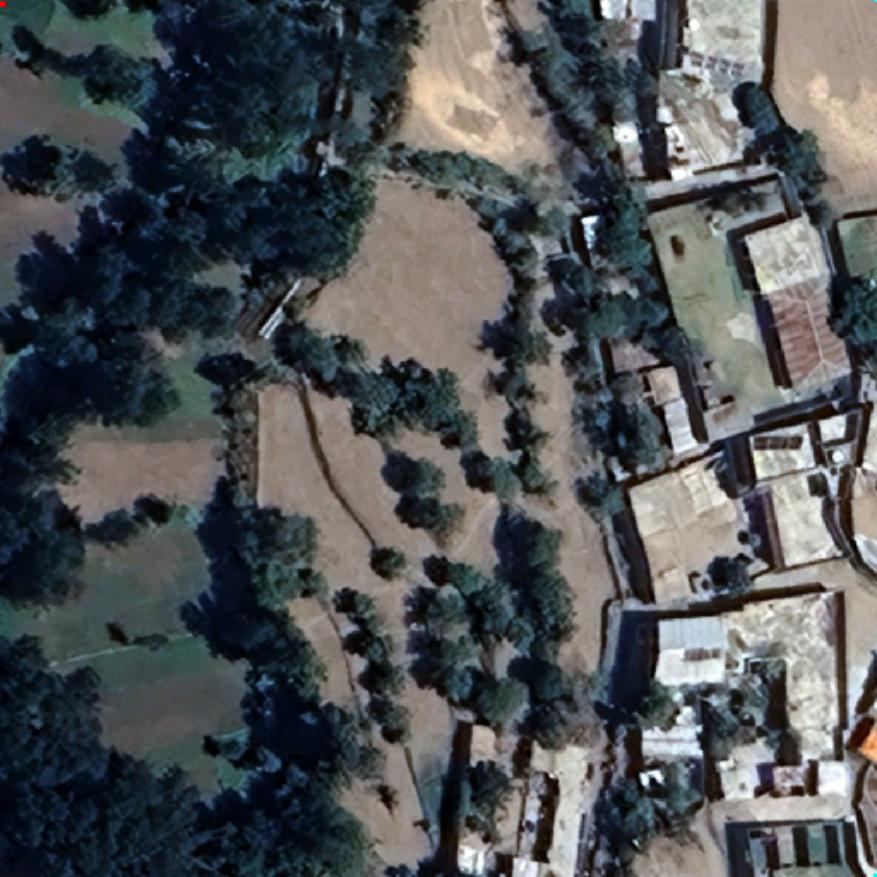Solarpanel: (750, 432, 806, 452)
